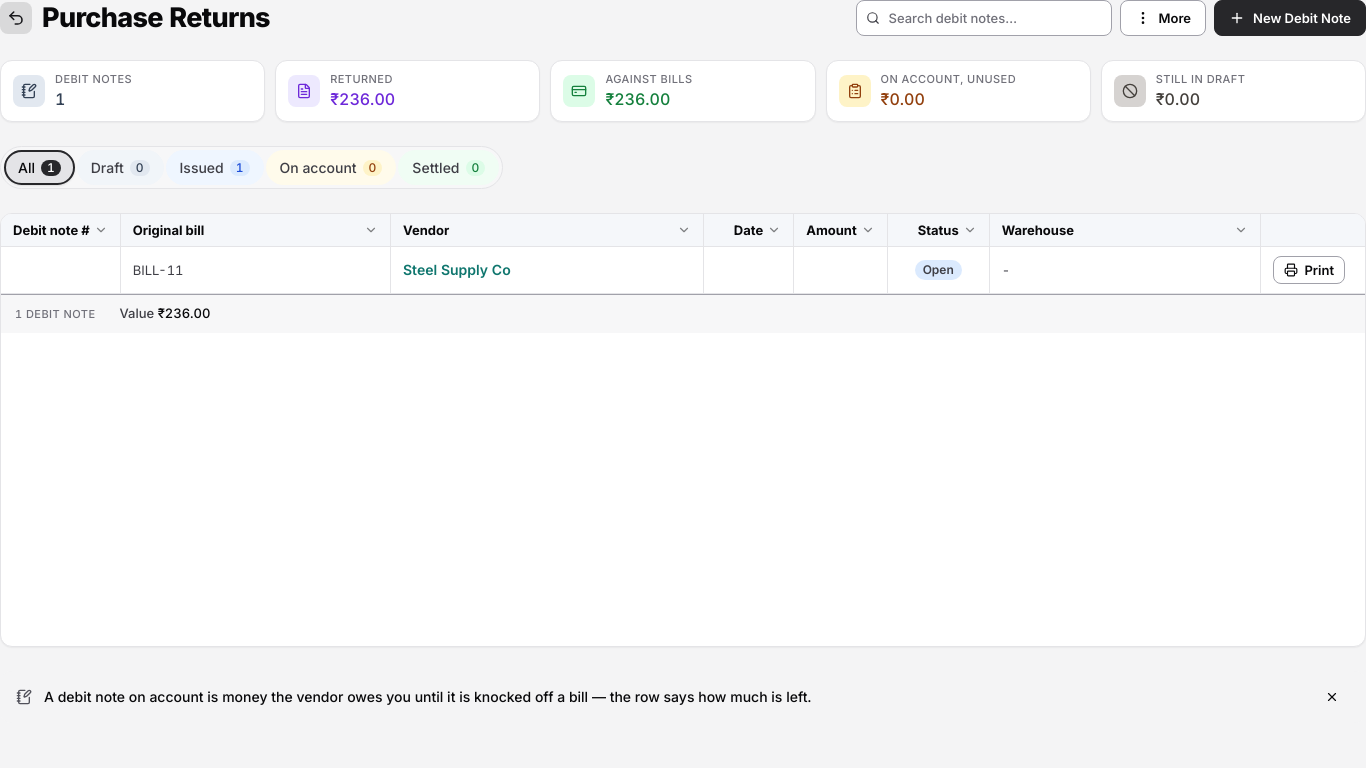
Test: printing a debit note › addresses the vendor and cites section 34
Click the button with aria-label "Print debit note DN-2" at (1309, 270), box [1273,256,1345,284]
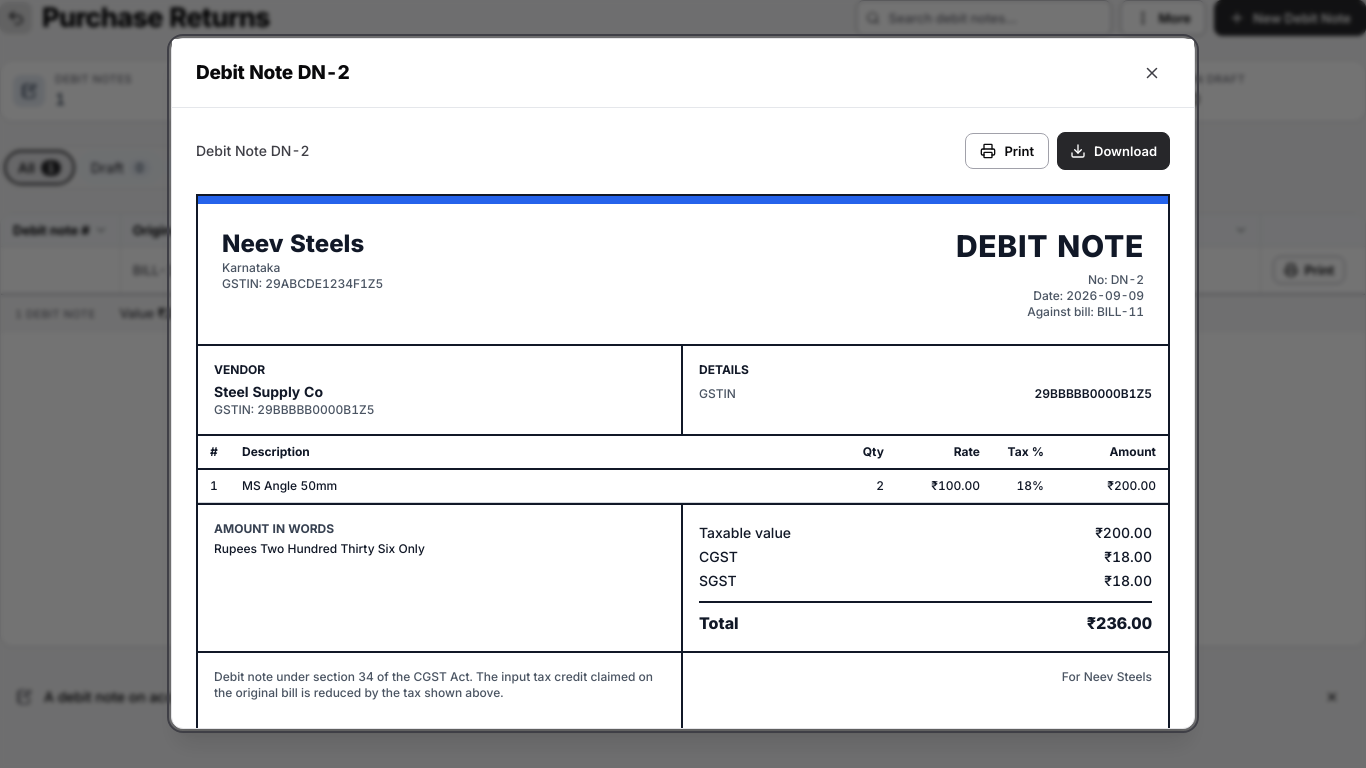
Now the text "Vendor" is shown, box [214,362,265,377]
Now the text "Steel Supply Co" is shown, box [214,383,323,400]
Now the text "section 34" is shown, box [214,669,653,700]
